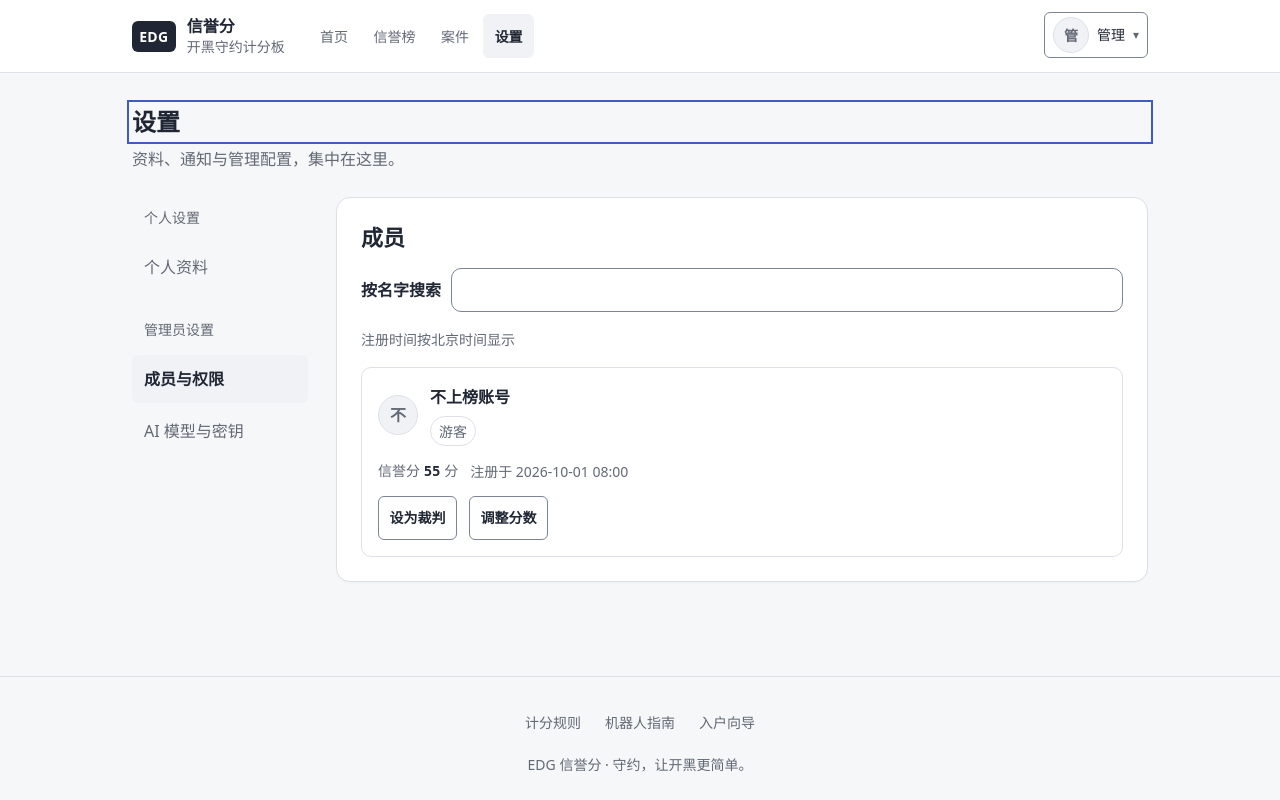
Test: members page inside App › refreshes records, board and me after a member judge change
This screenshot has width=1280, height=800.
Expected: the text "不上榜账号" is shown, left=430, top=384, right=510, bottom=411
What coordinates should you click on to do the following:
click the button "设为裁判"
I would click on:
 (418, 518)
Its box is left=378, top=496, right=457, bottom=540.
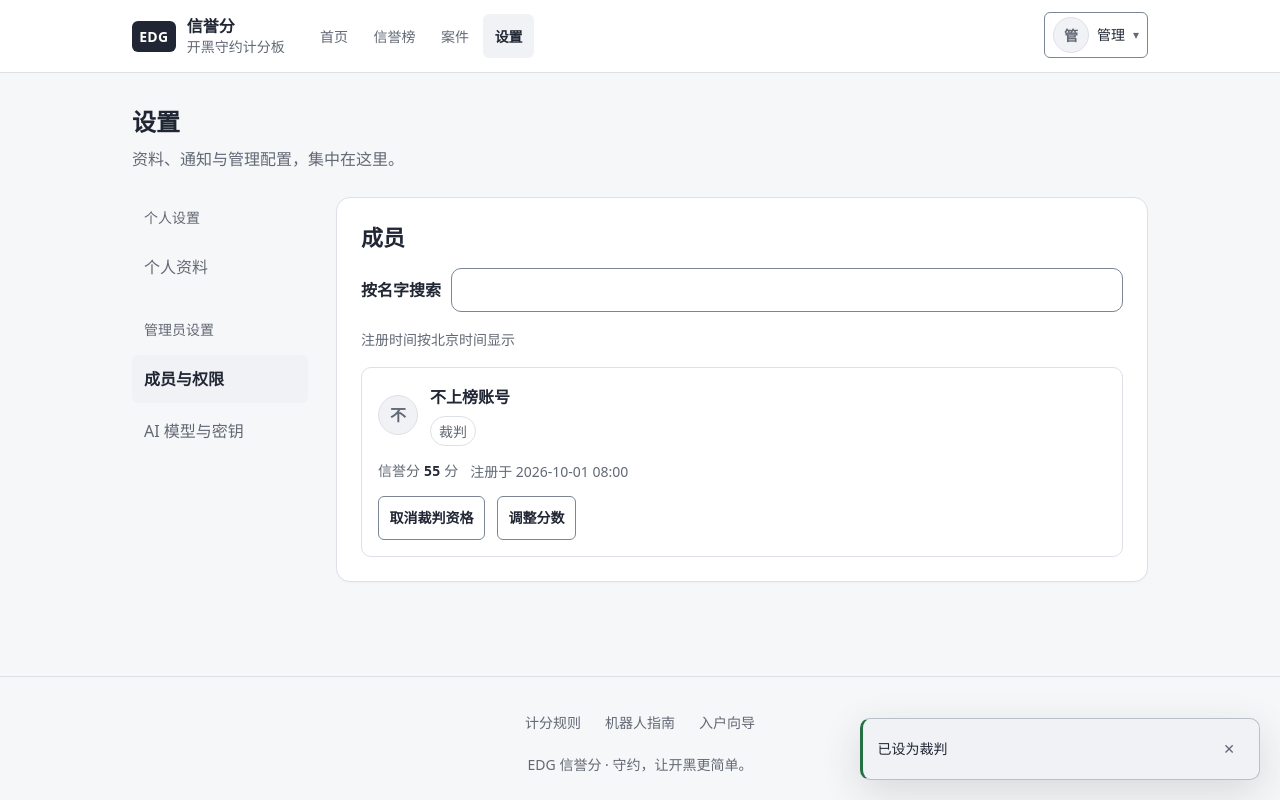
Expected: the message with class "toasts" shows "已设为裁判", left=877, top=739, right=947, bottom=758
